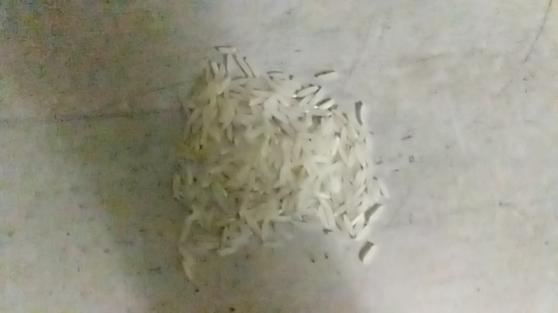rice: (163, 25, 401, 310)
